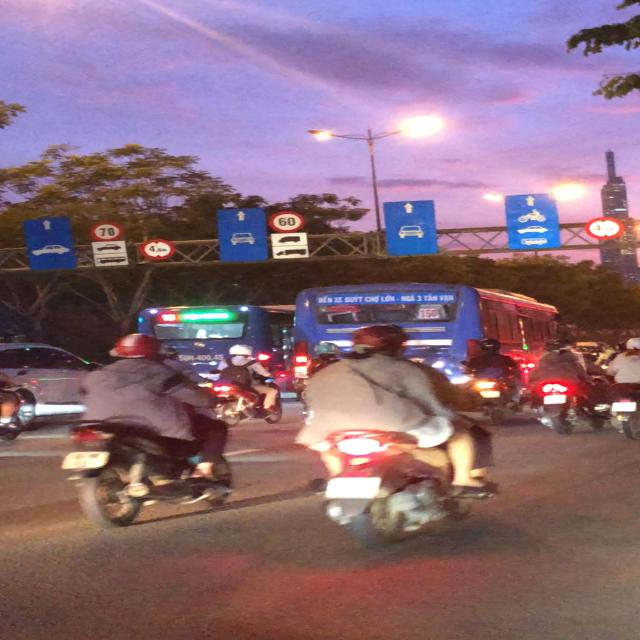Bien bao han che chieu cao: (579, 213, 622, 240), (139, 237, 177, 260)
Bien bao toc do toi da cho phep: (268, 207, 308, 233), (86, 218, 126, 243)
